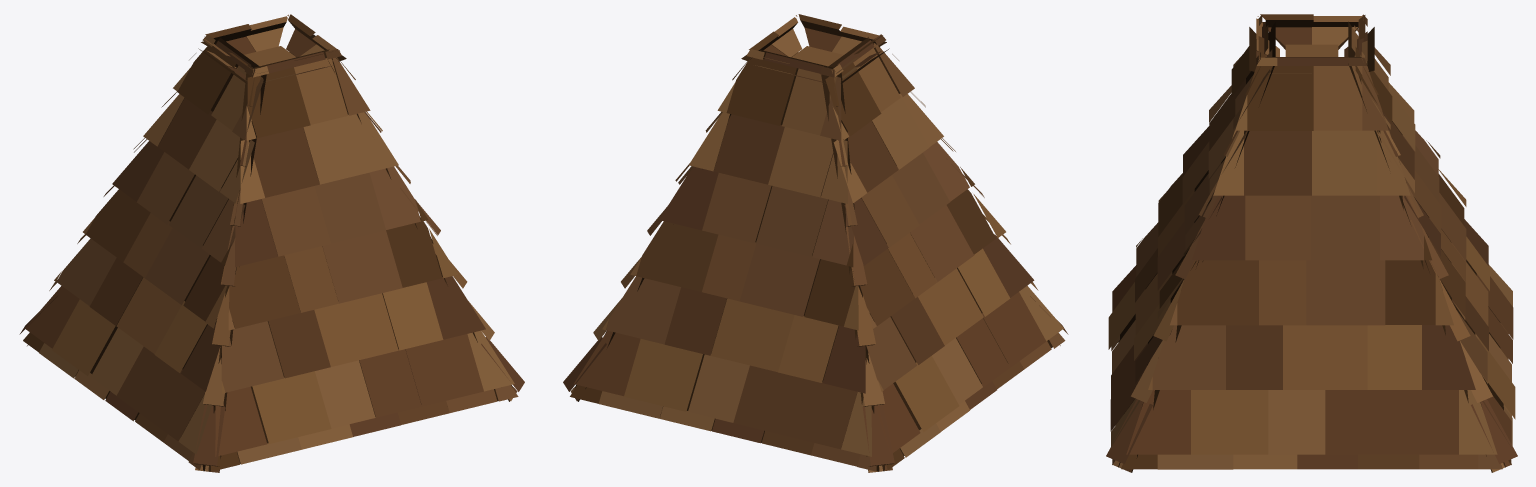
Rendered from roof-high-point-wood.glb.
The picture shows the model from 3 angles, left to right: view 1: azimuth 30°, elevation 25°; view 2: azimuth 150°, elevation 25°; view 3: azimuth 270°, elevation 25°; orthographic projection. The views are drawn at different scales.
Parts seen in each view (by area): view 1: roof-high-point-wood; view 2: roof-high-point-wood; view 3: roof-high-point-wood.
Boxes of the visible parts, x1,y1,x2,y2 form: roof-high-point-wood: [19, 14, 524, 472]; roof-high-point-wood: [563, 14, 1068, 472]; roof-high-point-wood: [1106, 14, 1517, 472].
Size of the model in its own units: 1.1 by 1.02 by 1.1.
